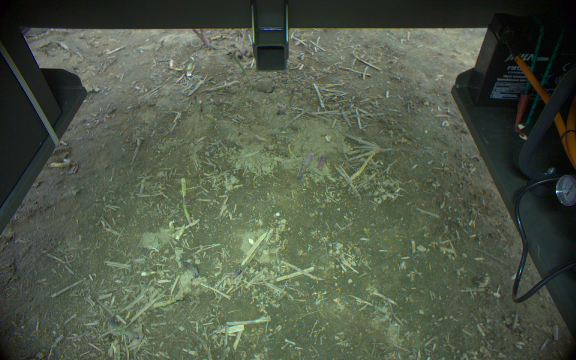aspa: (232, 47, 253, 91), (107, 315, 138, 341), (181, 202, 192, 227), (180, 176, 189, 202), (153, 298, 176, 307), (167, 220, 175, 232)
